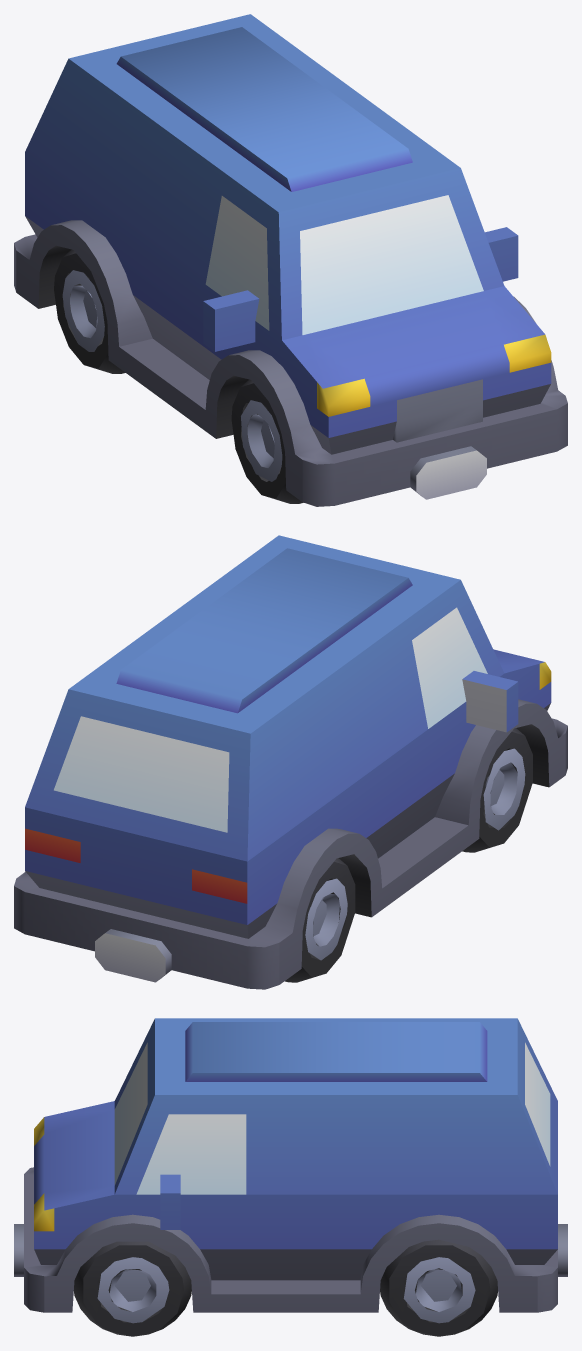
The model's file is van.glb.
The picture shows the model from 3 angles, top to bottom: view 1: azimuth 30°, elevation 25°; view 2: azimuth 150°, elevation 25°; view 3: azimuth 270°, elevation 25°; orthographic projection. The views are drawn at different scales.
Parts seen in each view (by area): view 1: wheel-front-right; view 2: wheel-front-right; view 3: wheel-front-right.
Boxes of the visible parts, left/top/right/bottom form: wheel-front-right: left=14, top=14, right=567, bottom=506; wheel-front-right: left=14, top=535, right=567, bottom=989; wheel-front-right: left=14, top=1018, right=567, bottom=1336.
Size of the model in its own units: 2.25 by 2.03 by 4.13.
Materials: 1 (1 with a texture image).
